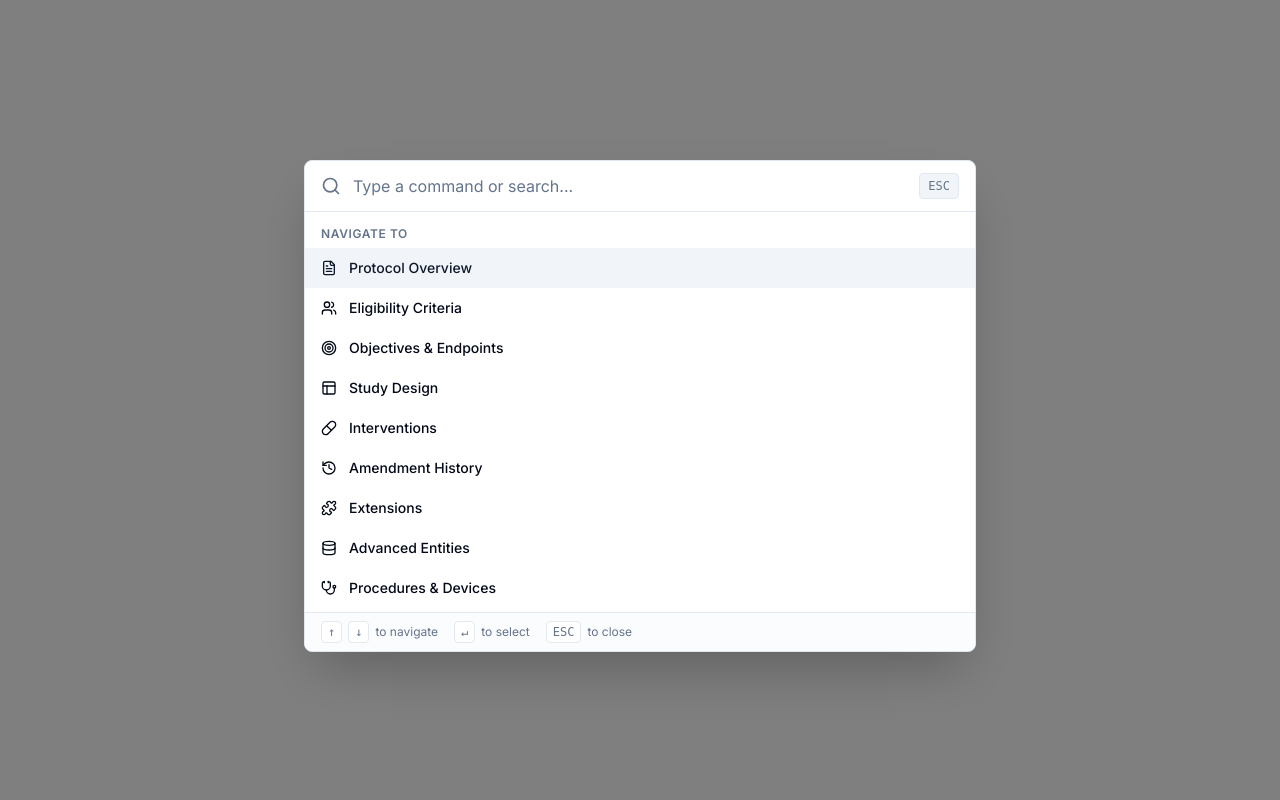
Test case: CommandPalette › Fuzzy Search › should show empty state when no results match
Type "zzzzzzzzz" into the field with placeholder "Type a command or search..." at {"x": 630, "y": 186}, box [353,174,907,198]
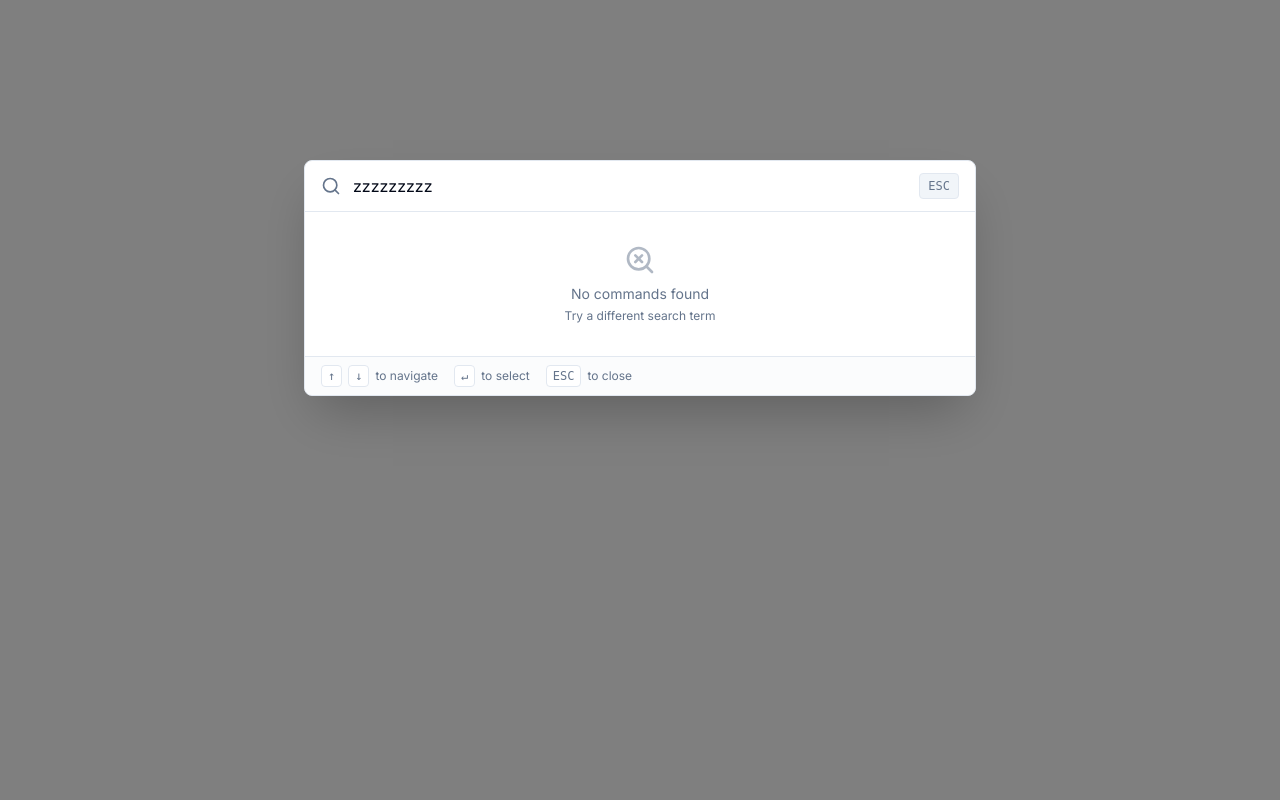
Now the text "No commands found" is shown, box [571,285,709,302]
